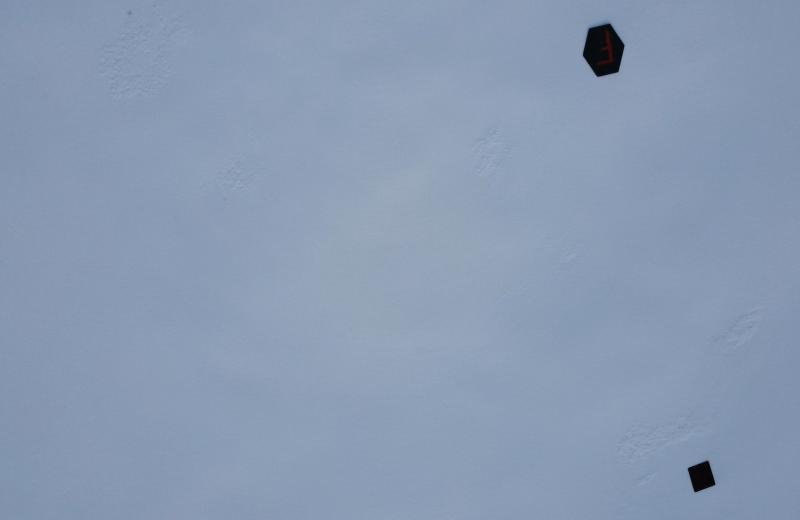Hexagon: (582, 24, 628, 77)
Square: (686, 459, 716, 494)
